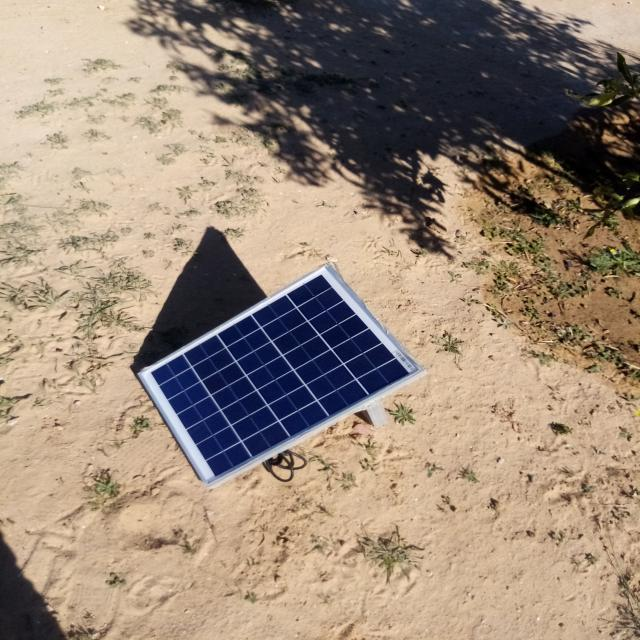Normal Solar Panel: (138, 265, 422, 485)
